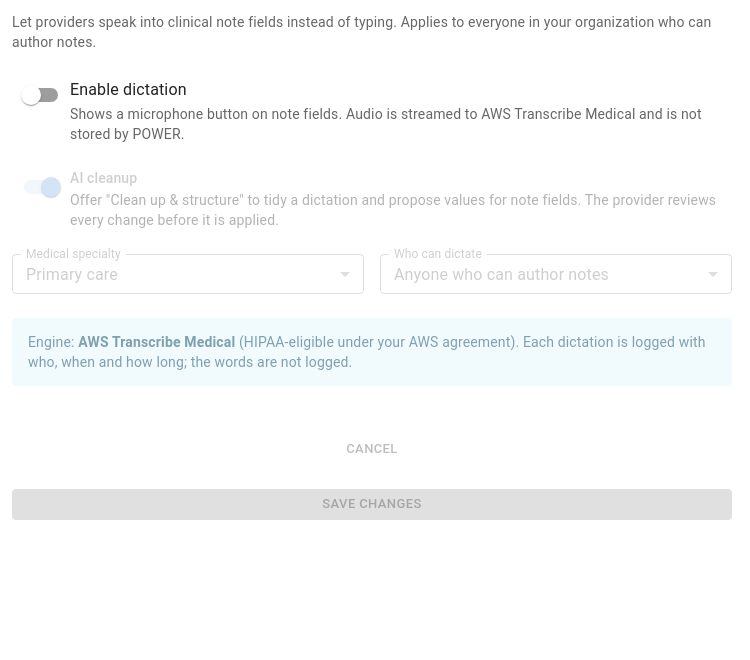
Scenario: DictationSettings › shows the server's reason when saving is not allowed
Click the switch labelled "Enable dictation".
click(372, 110)  # box top-left (12, 76), bottom-right (732, 144)
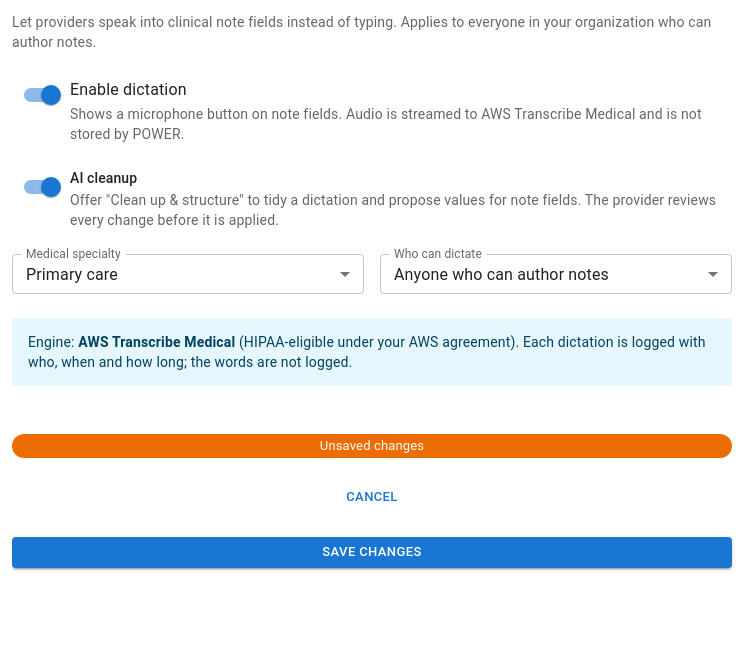
Click the button "Save changes".
click(372, 552)  # box top-left (12, 537), bottom-right (732, 568)
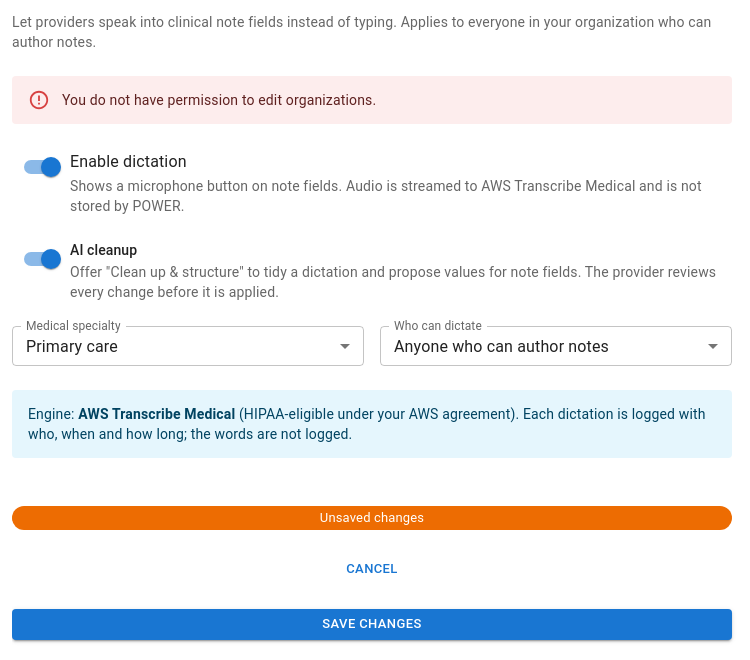
Expected: the text "You do not have permission to edit organizations." is shown, top-left (62, 92), bottom-right (376, 108)
